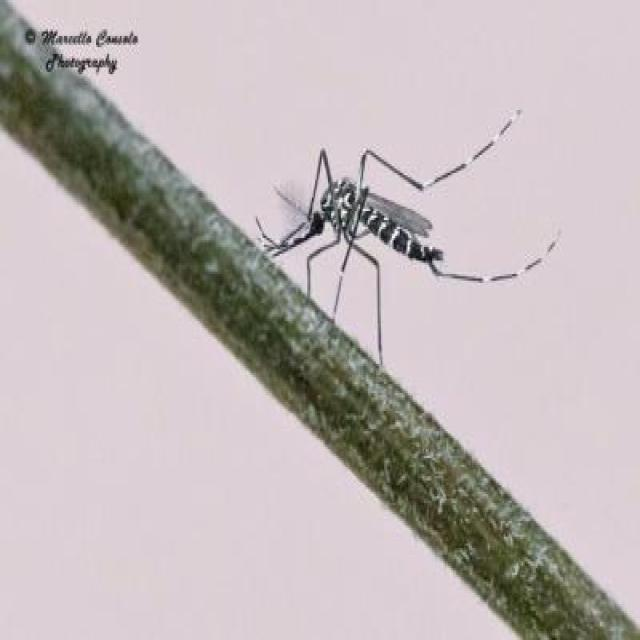antennae: (267, 181, 317, 229)
body: (316, 179, 444, 271)
insect: (258, 106, 562, 367)
legs: (352, 108, 538, 178), (302, 232, 393, 367), (420, 240, 570, 293)
mouthpart: (256, 221, 313, 266)
wings: (354, 180, 436, 240)
